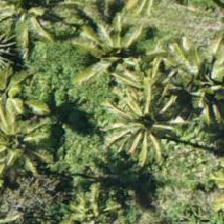coconut_tree: (94, 66, 184, 156), (48, 0, 138, 72), (0, 91, 71, 181), (165, 33, 223, 123)
